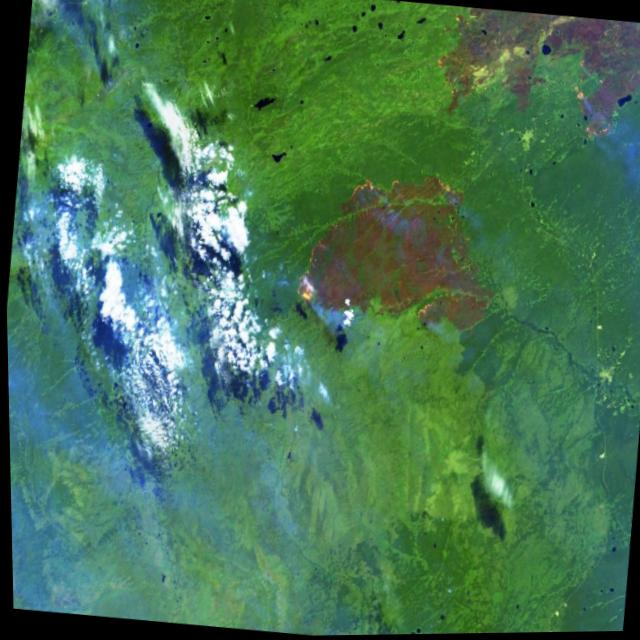fire: (420, 4, 495, 115), (566, 49, 640, 161), (278, 224, 339, 333), (337, 153, 406, 220), (429, 167, 465, 215)
